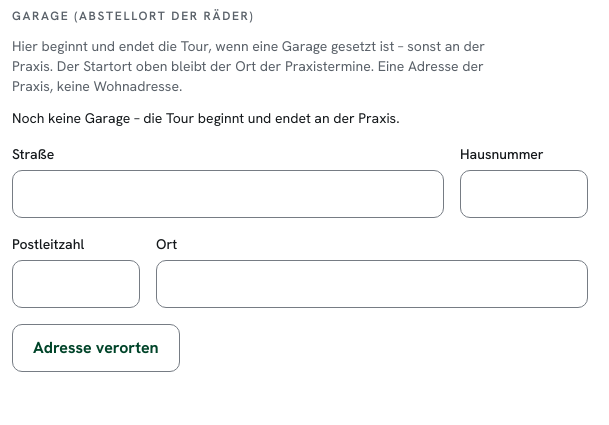
GarageEinstellung (UBK-015, ANN-240) › sagt ohne Garage, dass die Tour an der Praxis beginnt, und speichert eine
This screenshot has width=609, height=425.
Check: the text "Noch keine Garage – die Tour beginnt und endet an der Praxis." is shown, box [12,109,400,127]
Check: the text "keine Wohnadresse" is shown, box [12,37,485,95]
Type "Praxisplatz" into the field labelled "Straße" at (228, 194), box [12,170,444,218]
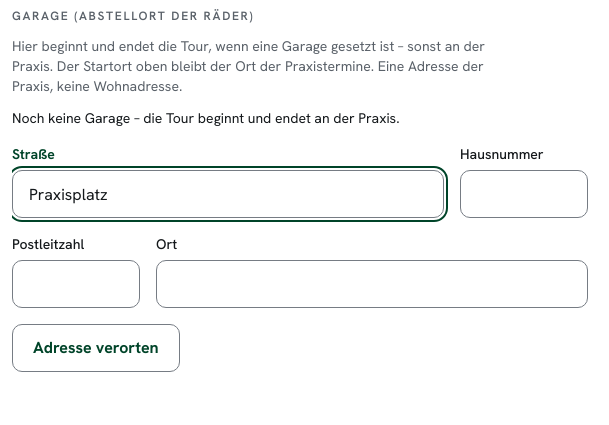
Type "72072" into the field labelled "Postleitzahl" at (76, 284), box [12,260,140,308]
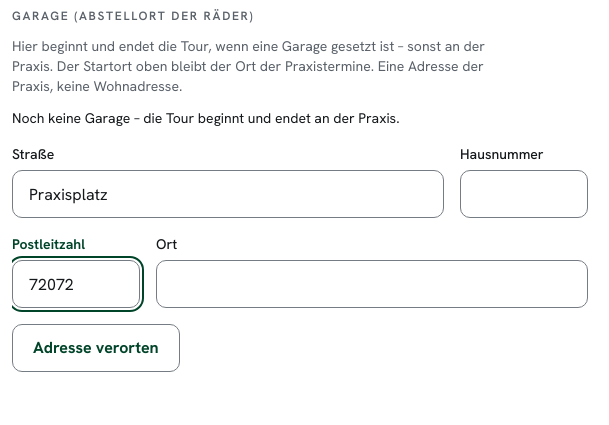
Type "Tübingen" into the field labelled "Ort" at (372, 284), box [156,260,588,308]
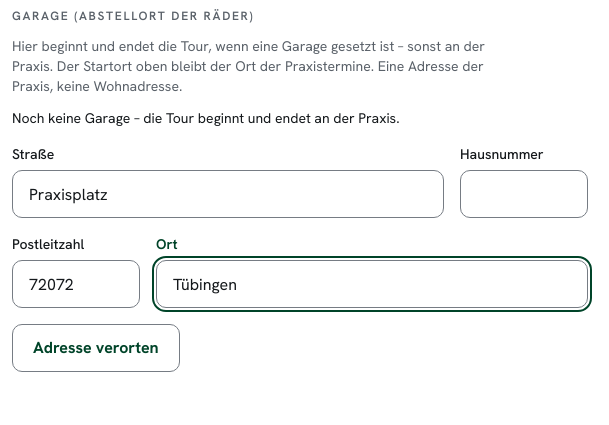
Click the button "Adresse verorten" at (96, 348), box [12,324,180,372]
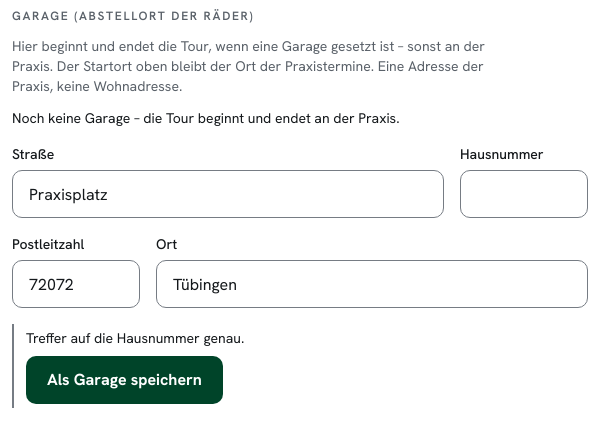
Click the button "Als Garage speichern" at (124, 380), box [26,356,223,404]
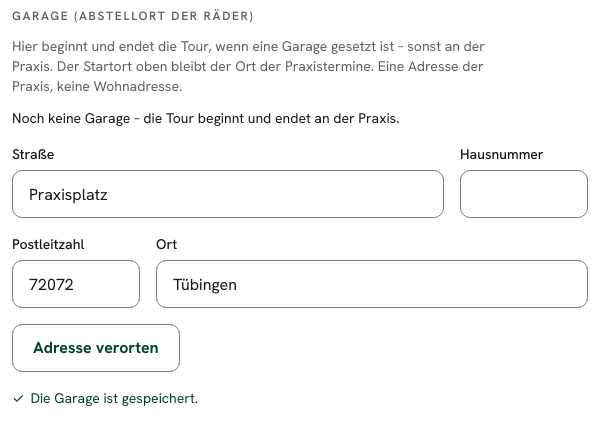
Check: the text "Die Garage ist gespeichert." is shown, box [30,389,198,407]
